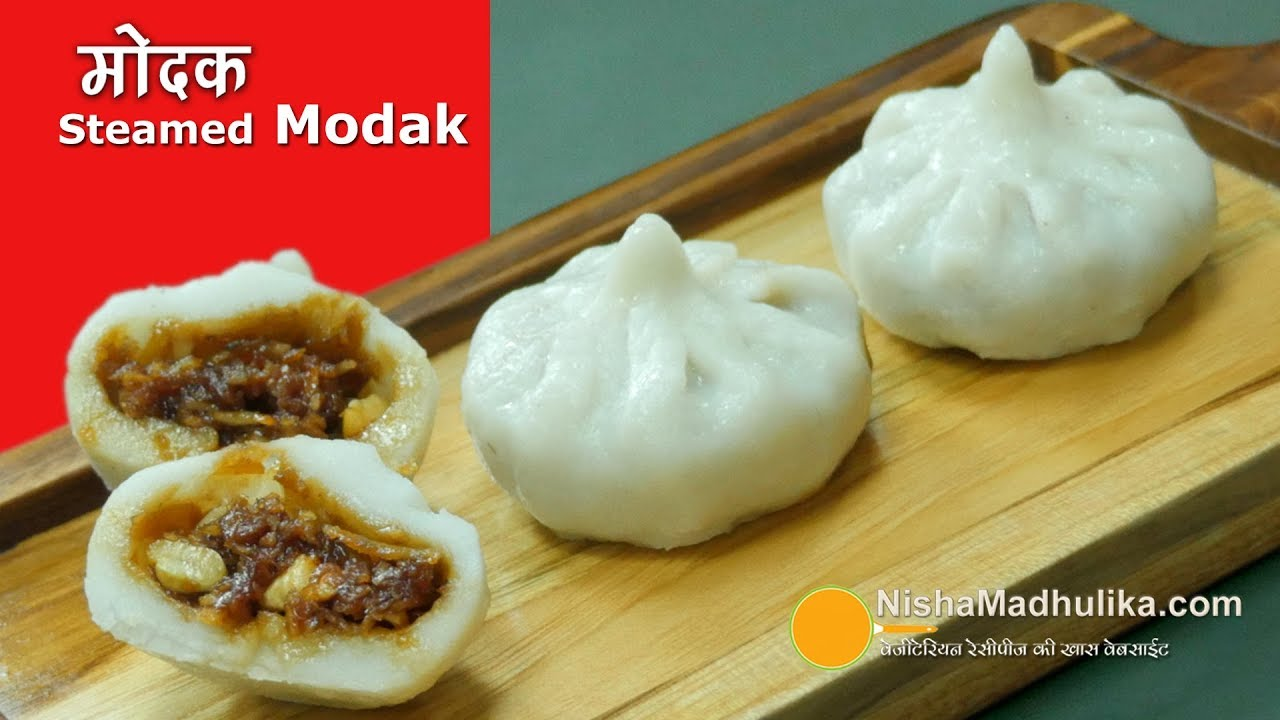modak: (849, 33, 1240, 380), (465, 218, 872, 533)
